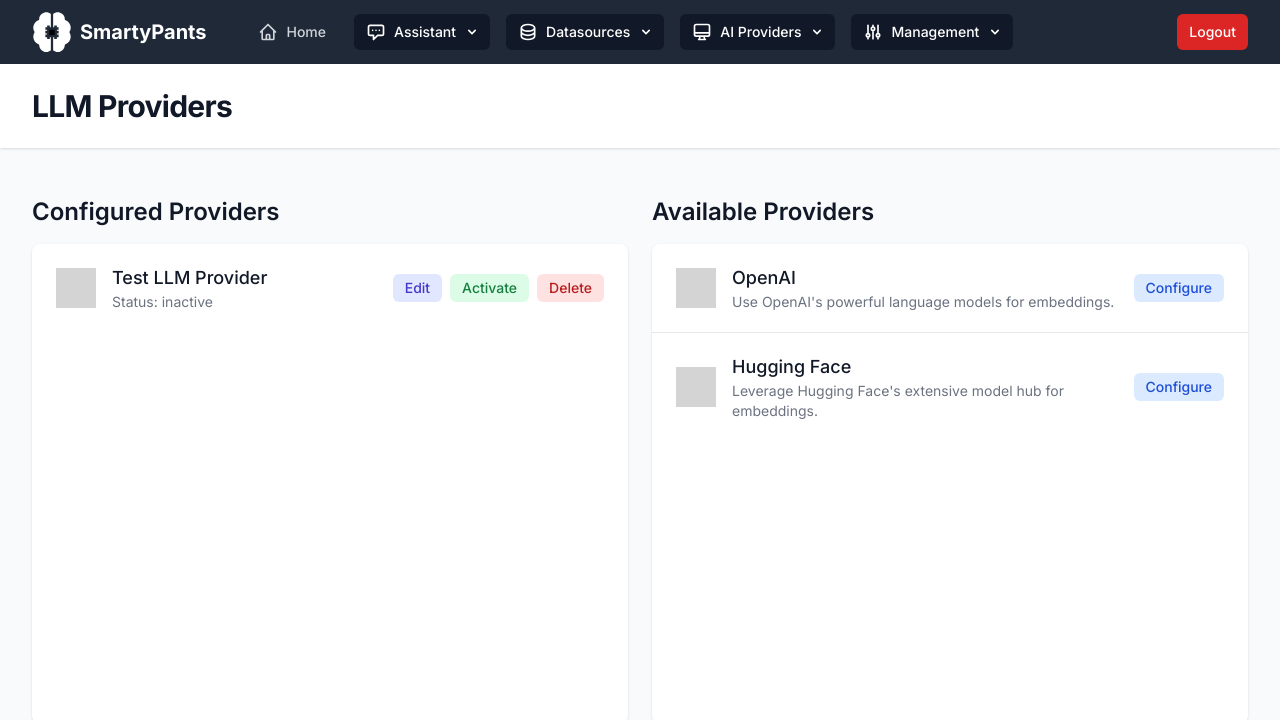
Scenario: LLMProvidersPage › handles activate provider
Expected: the heading "Test LLM Provider" is shown, [112, 264, 267, 292]
Click the button "Activate".
click(490, 288)  # box [450, 274, 529, 302]
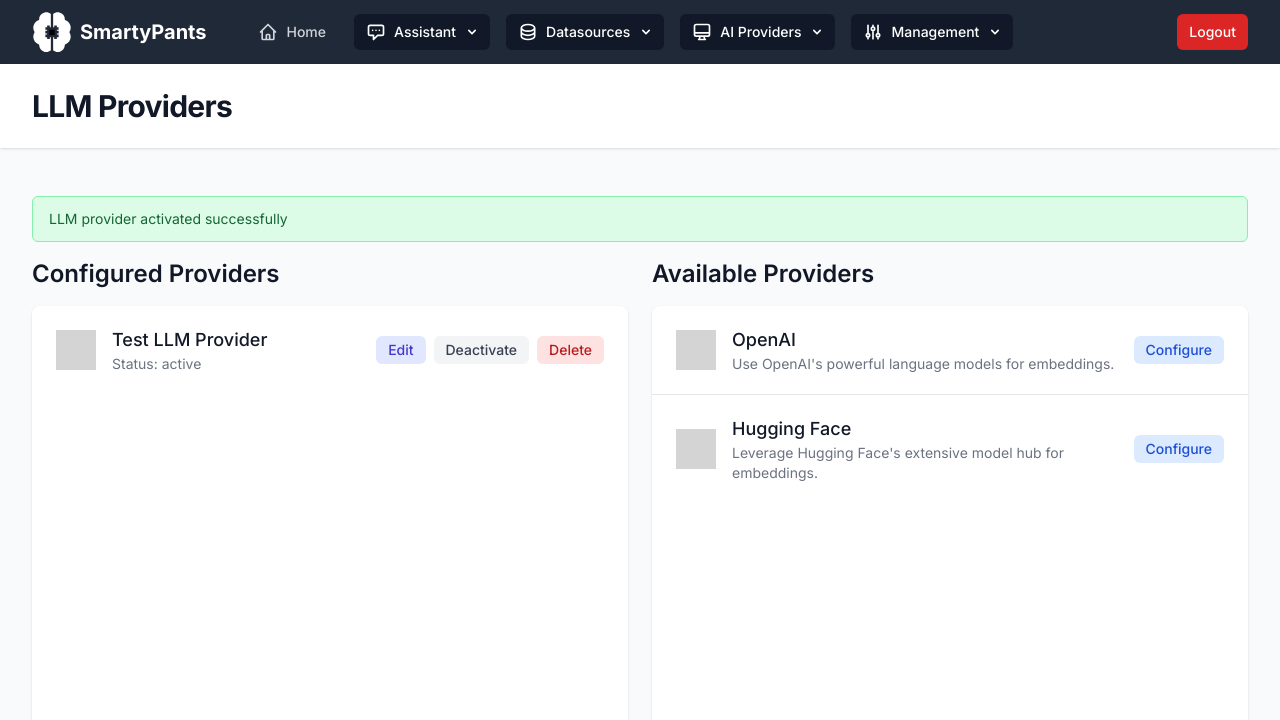
Expected: the text "LLM provider activated successfully" is shown, [49, 210, 288, 227]
